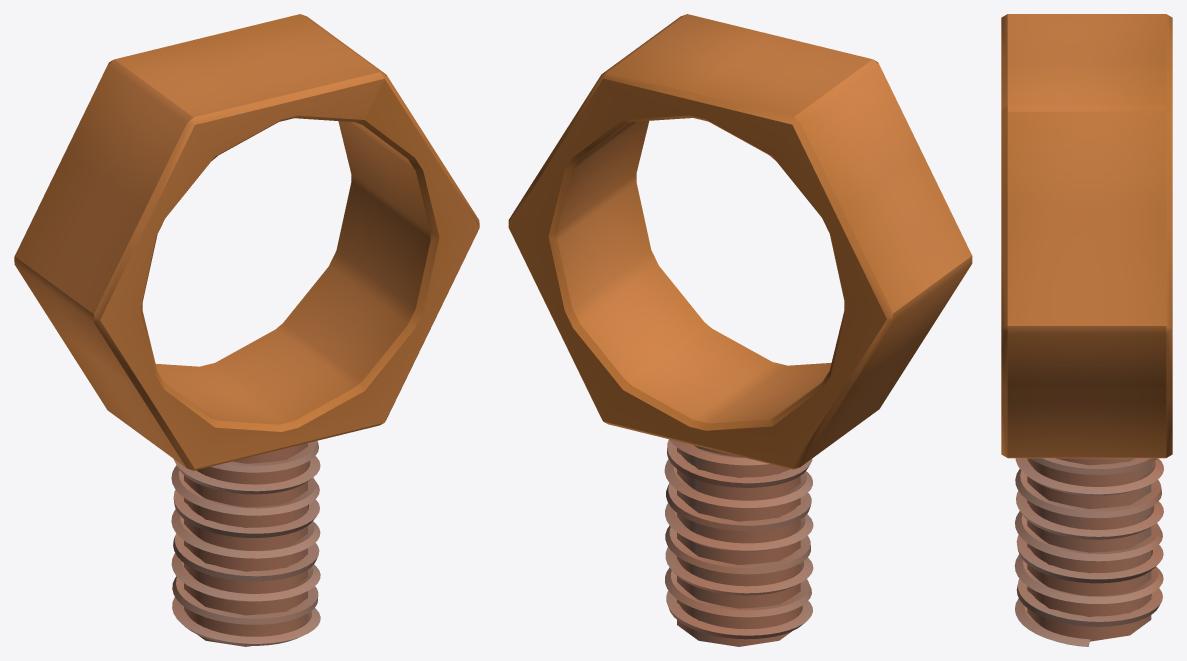
The model's file is Level 2 Grapple Point.fbx.
3 renders of one model, left to right at view 1: azimuth 30°, elevation 25°; view 2: azimuth 150°, elevation 25°; view 3: azimuth 270°, elevation 25°, orthographic.
Visible parts, largest first — view 1: BoltNut001, ScrewSpiral001, ScrewBody001; view 2: BoltNut001, ScrewSpiral001, ScrewBody001; view 3: BoltNut001, ScrewSpiral001, ScrewBody001.
Boxes of the visible parts, x1,y1,x2,y2 form: BoltNut001: (14,14,479,470); ScrewSpiral001: (171,440,320,645); ScrewBody001: (184,443,307,646); BoltNut001: (508,14,972,469); ScrewSpiral001: (664,439,813,639); ScrewBody001: (677,445,800,646); BoltNut001: (1001,14,1172,458); ScrewSpiral001: (1014,458,1163,646); ScrewBody001: (1027,458,1151,641).
Size of the model in its own units: 0.716 by 0.993 by 0.276.
1 material, 1 textured.
